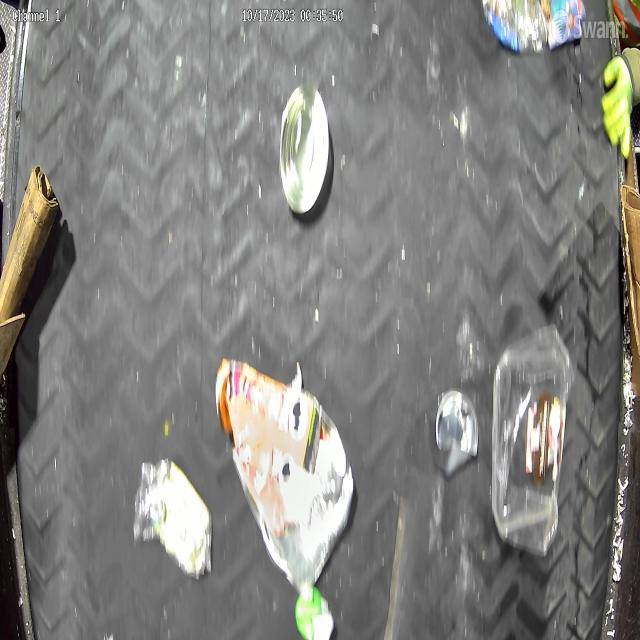can: (232, 386, 356, 591), (278, 77, 335, 224), (434, 388, 481, 469)
